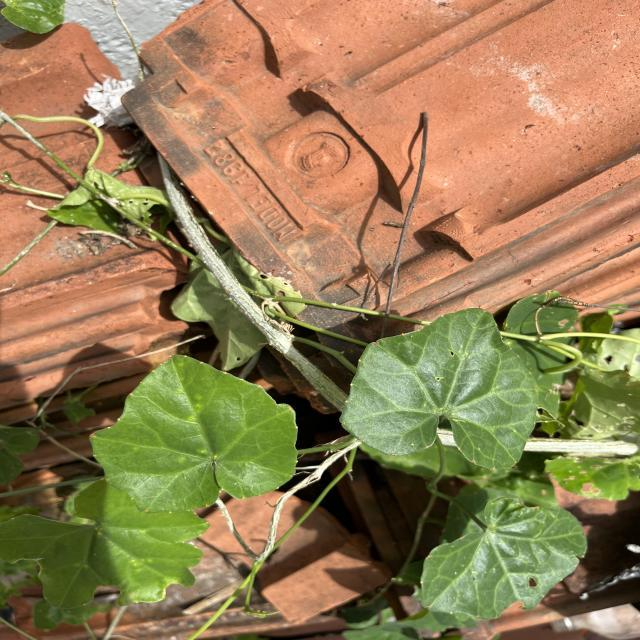Coccinia grandis: (87, 352, 300, 516), (338, 306, 540, 470)
